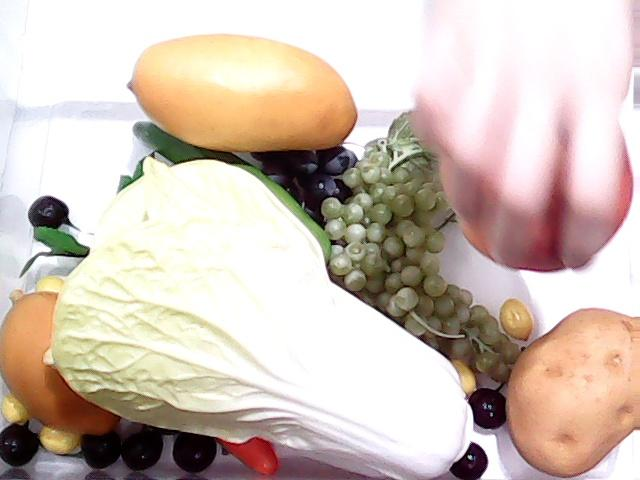carrot: (218, 420, 276, 474)
grape: (313, 143, 523, 386), (250, 138, 362, 226)
lemon: (1, 288, 115, 430)
mango: (116, 29, 360, 156)
napa cabbage: (49, 158, 470, 474)
peach: (456, 103, 634, 274)
pepper: (130, 99, 330, 273)
potato: (503, 307, 640, 480)
